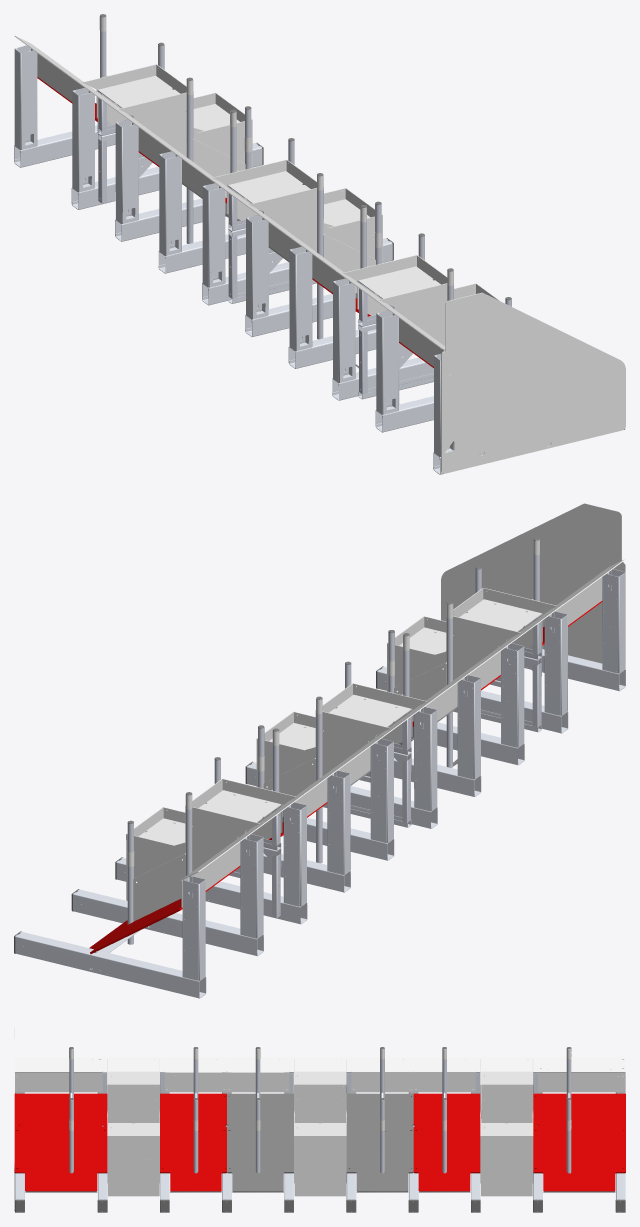
3 renders of one model, top to bottom at view 1: azimuth 30°, elevation 25°; view 2: azimuth 150°, elevation 25°; view 3: azimuth 270°, elevation 25°, orthographic. The views are drawn at different scales.
Parts seen in each view (by area): view 1: GE-23099, GE-23089.001, GE-23089.003, GE-23004.008, GE-23004.002, GE-23004.009, GE-23004.001, GE-23004.004, GE-23004.005, GE-23004.003, GE-23004.007, GE-23004 (+26 smaller); view 2: GE-23099, GE-23002.001, GE-23089, GE-23089.002, GE-23089.005, GE-23002.007, GE-23091.002, GE-23005, GE-23005.007, GE-23005.008, GE-23005.005, GE-23005.006 (+39 smaller); view 3: GE-23022, GE-23022.001, GE-23021.001, GE-23021-BLK, GE-23021, GE-23021-BLK.001, GE-23077.001, GE-23077, GE-23077.002, GE-23079, GE-23079.001, GE-23079.002 (+28 smaller).
Boxes of the visible parts, x1,y1,x2,y2 form: GE-23099: (441,292,625,473); GE-23089.001: (119,91,252,167); GE-23089.003: (249,187,382,263); GE-23004.008: (115,122,138,223); GE-23004.002: (72,90,94,192); GE-23004.009: (289,249,311,351); GE-23004.001: (376,313,398,414); GE-23004.004: (159,154,181,255); GE-23004.005: (246,217,268,319); GE-23004.003: (14,48,36,149); GE-23004.007: (202,185,224,287); GE-23004: (333,281,355,382); GE-23099: (441,503,625,663); GE-23002.001: (15,931,205,997); GE-23089: (126,806,259,900); GE-23089.002: (256,710,389,786); GE-23089.005: (387,616,520,691); GE-23002.007: (73,889,263,955); GE-23091.002: (133,853,185,921); GE-23005: (182,876,198,980); GE-23005.007: (457,676,473,779); GE-23005.008: (544,612,560,715); GE-23005.005: (501,644,517,747); GE-23005.006: (370,739,386,842); GE-23022: (14,1093,107,1191); GE-23022.001: (533,1093,625,1191); GE-23021.001: (413,1093,480,1191); GE-23021-BLK: (346,1093,413,1191); GE-23021: (160,1093,226,1191); GE-23021-BLK.001: (227,1093,293,1191); GE-23077.001: (481,1135,532,1196); GE-23077: (108,1135,159,1196); GE-23077.002: (294,1135,345,1196); GE-23079: (481,1084,532,1123); GE-23079.001: (294,1084,345,1123); GE-23079.002: (108,1084,159,1123).
Bounding box in the file's own units: 138 × 123 × 550.
